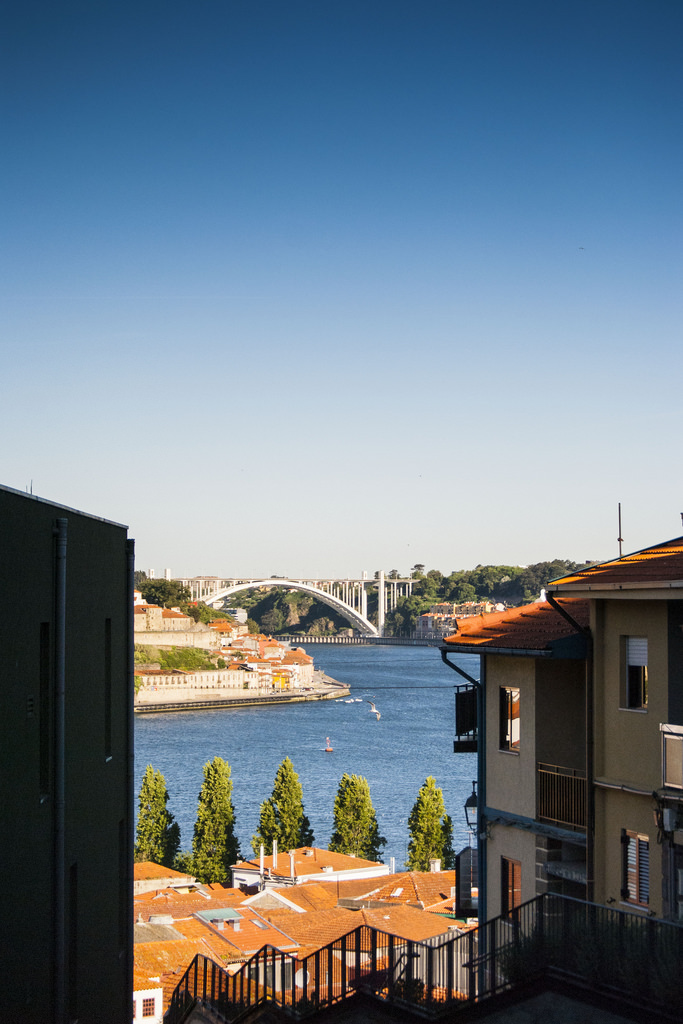arrabida: (146, 563, 387, 643)
